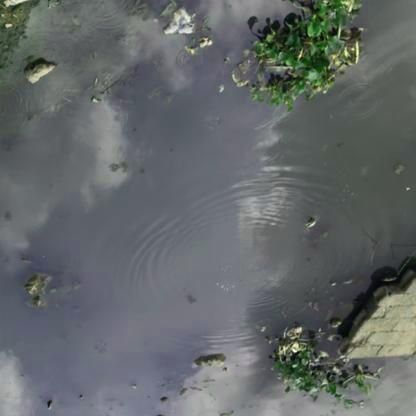Plastic: (22, 60, 58, 81)
Trash: (164, 7, 195, 38)
